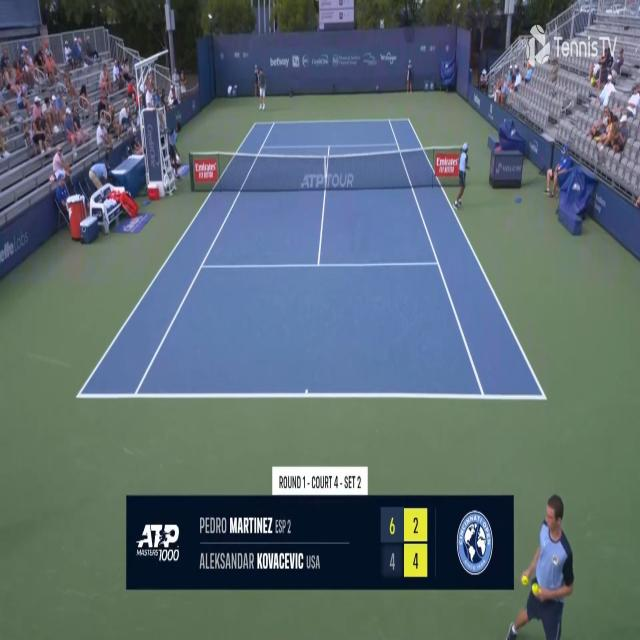tennis-player: (256, 66, 266, 110)
